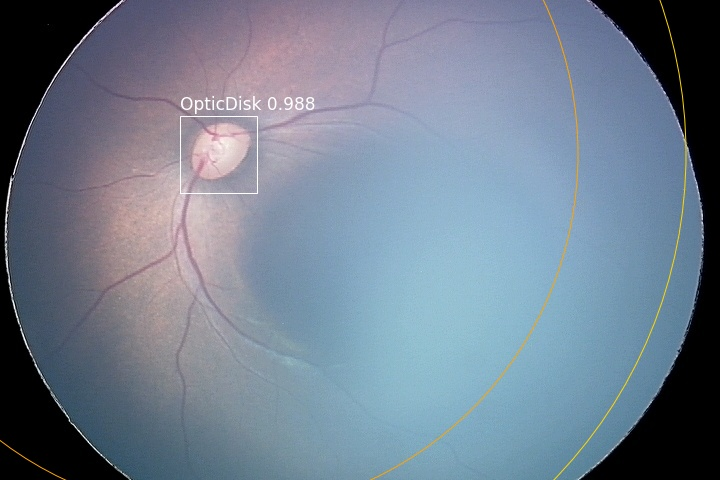Macula: (284, 207, 388, 311)
OpticDisk: (183, 118, 249, 184)
